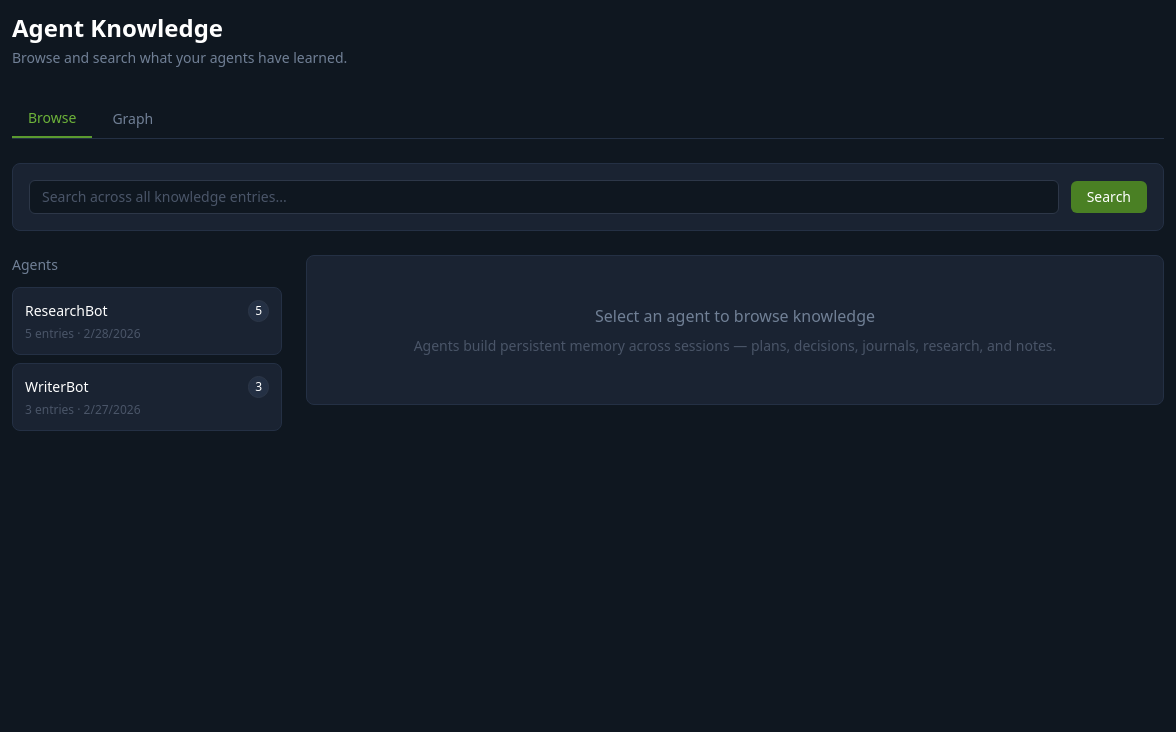
Test: KnowledgeClient › fetches entries when agent is selected
Click the text "ResearchBot". click: click(66, 311)
box: [25, 301, 108, 321]
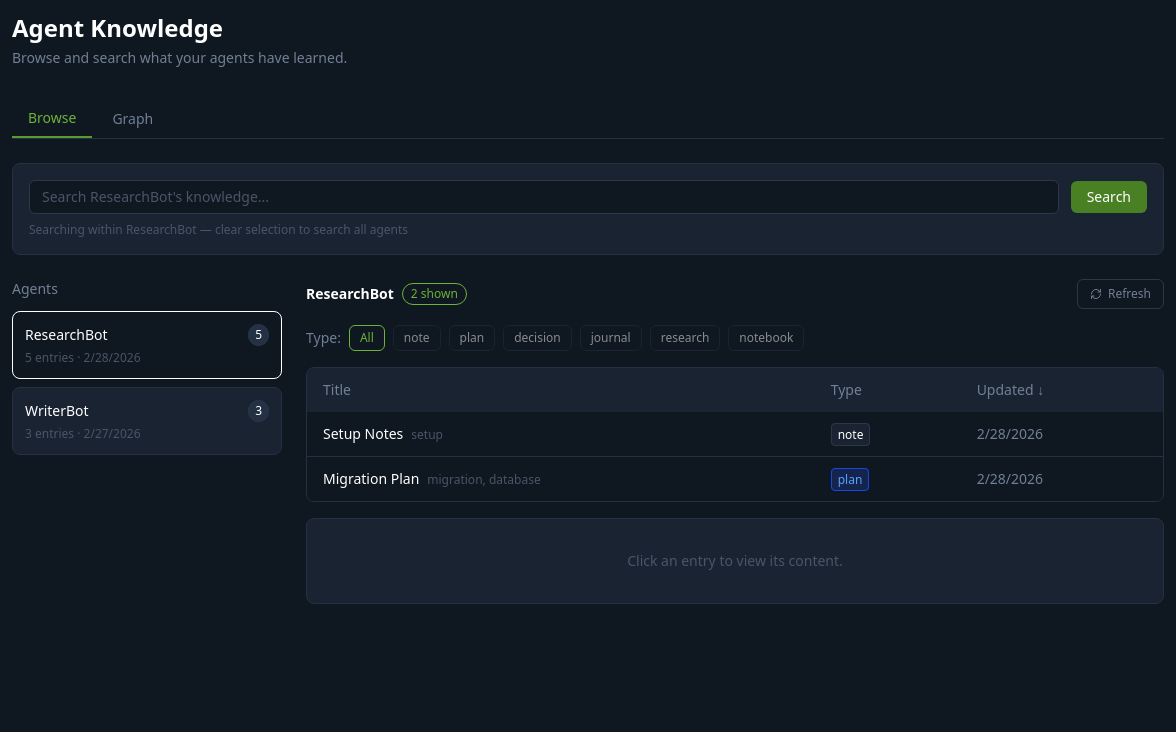
Now the text "Setup Notes" is shown, box [323, 424, 403, 443]
Now the text "Migration Plan" is shown, box [323, 469, 419, 488]
